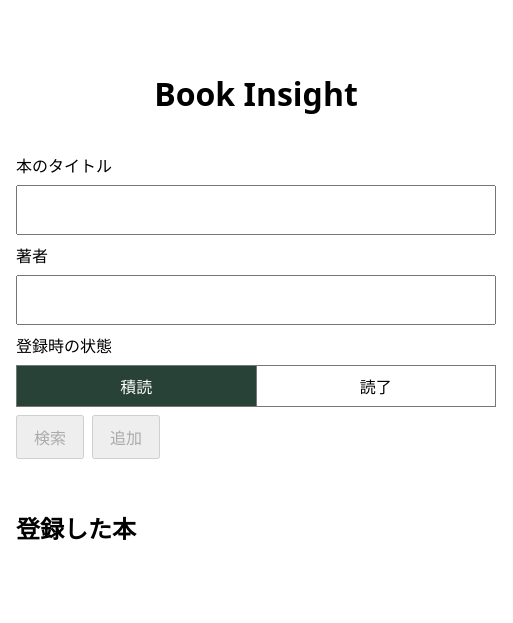
Test: App › 検索に失敗したらエラーを表示する
The image size is (513, 623).
Type "銀河鉄道" into the field labelled "本のタイトル" at (256, 210), box [16, 184, 496, 234]
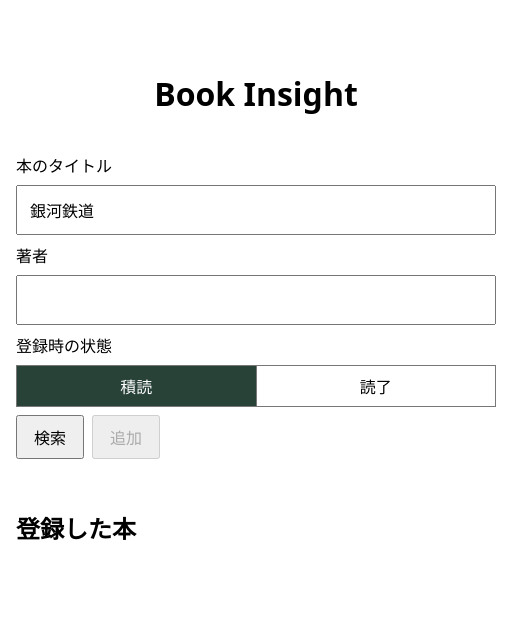
Click the button "検索" at (50, 436), box [16, 414, 84, 458]
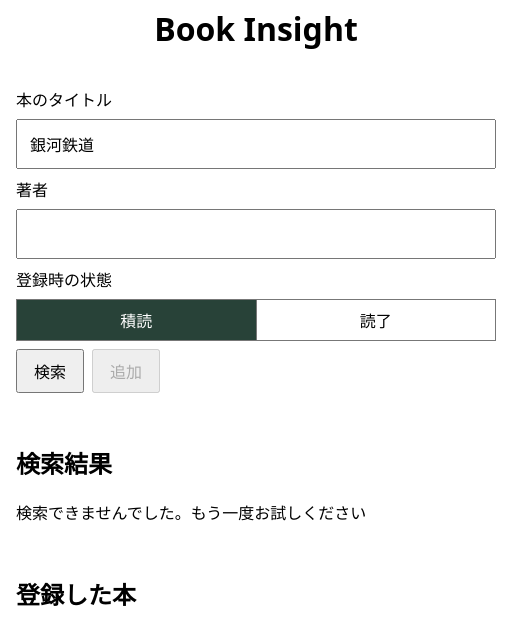
Now the message shows "検索できませんでした", box [16, 502, 366, 524]
